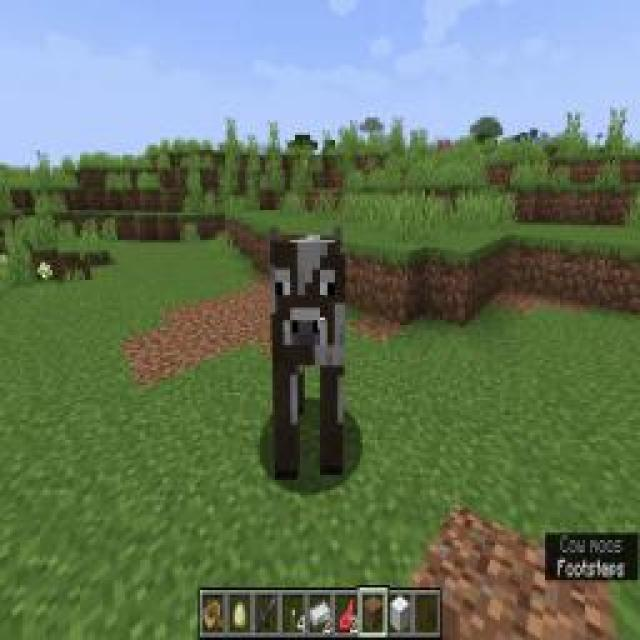Cow: (268, 221, 350, 489)
